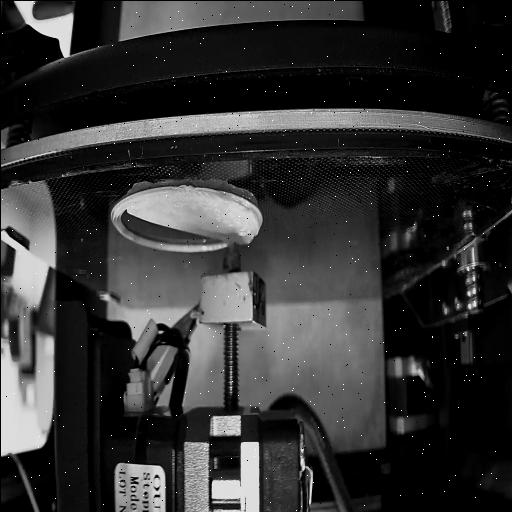over_extrusion: (241, 204, 262, 250)
